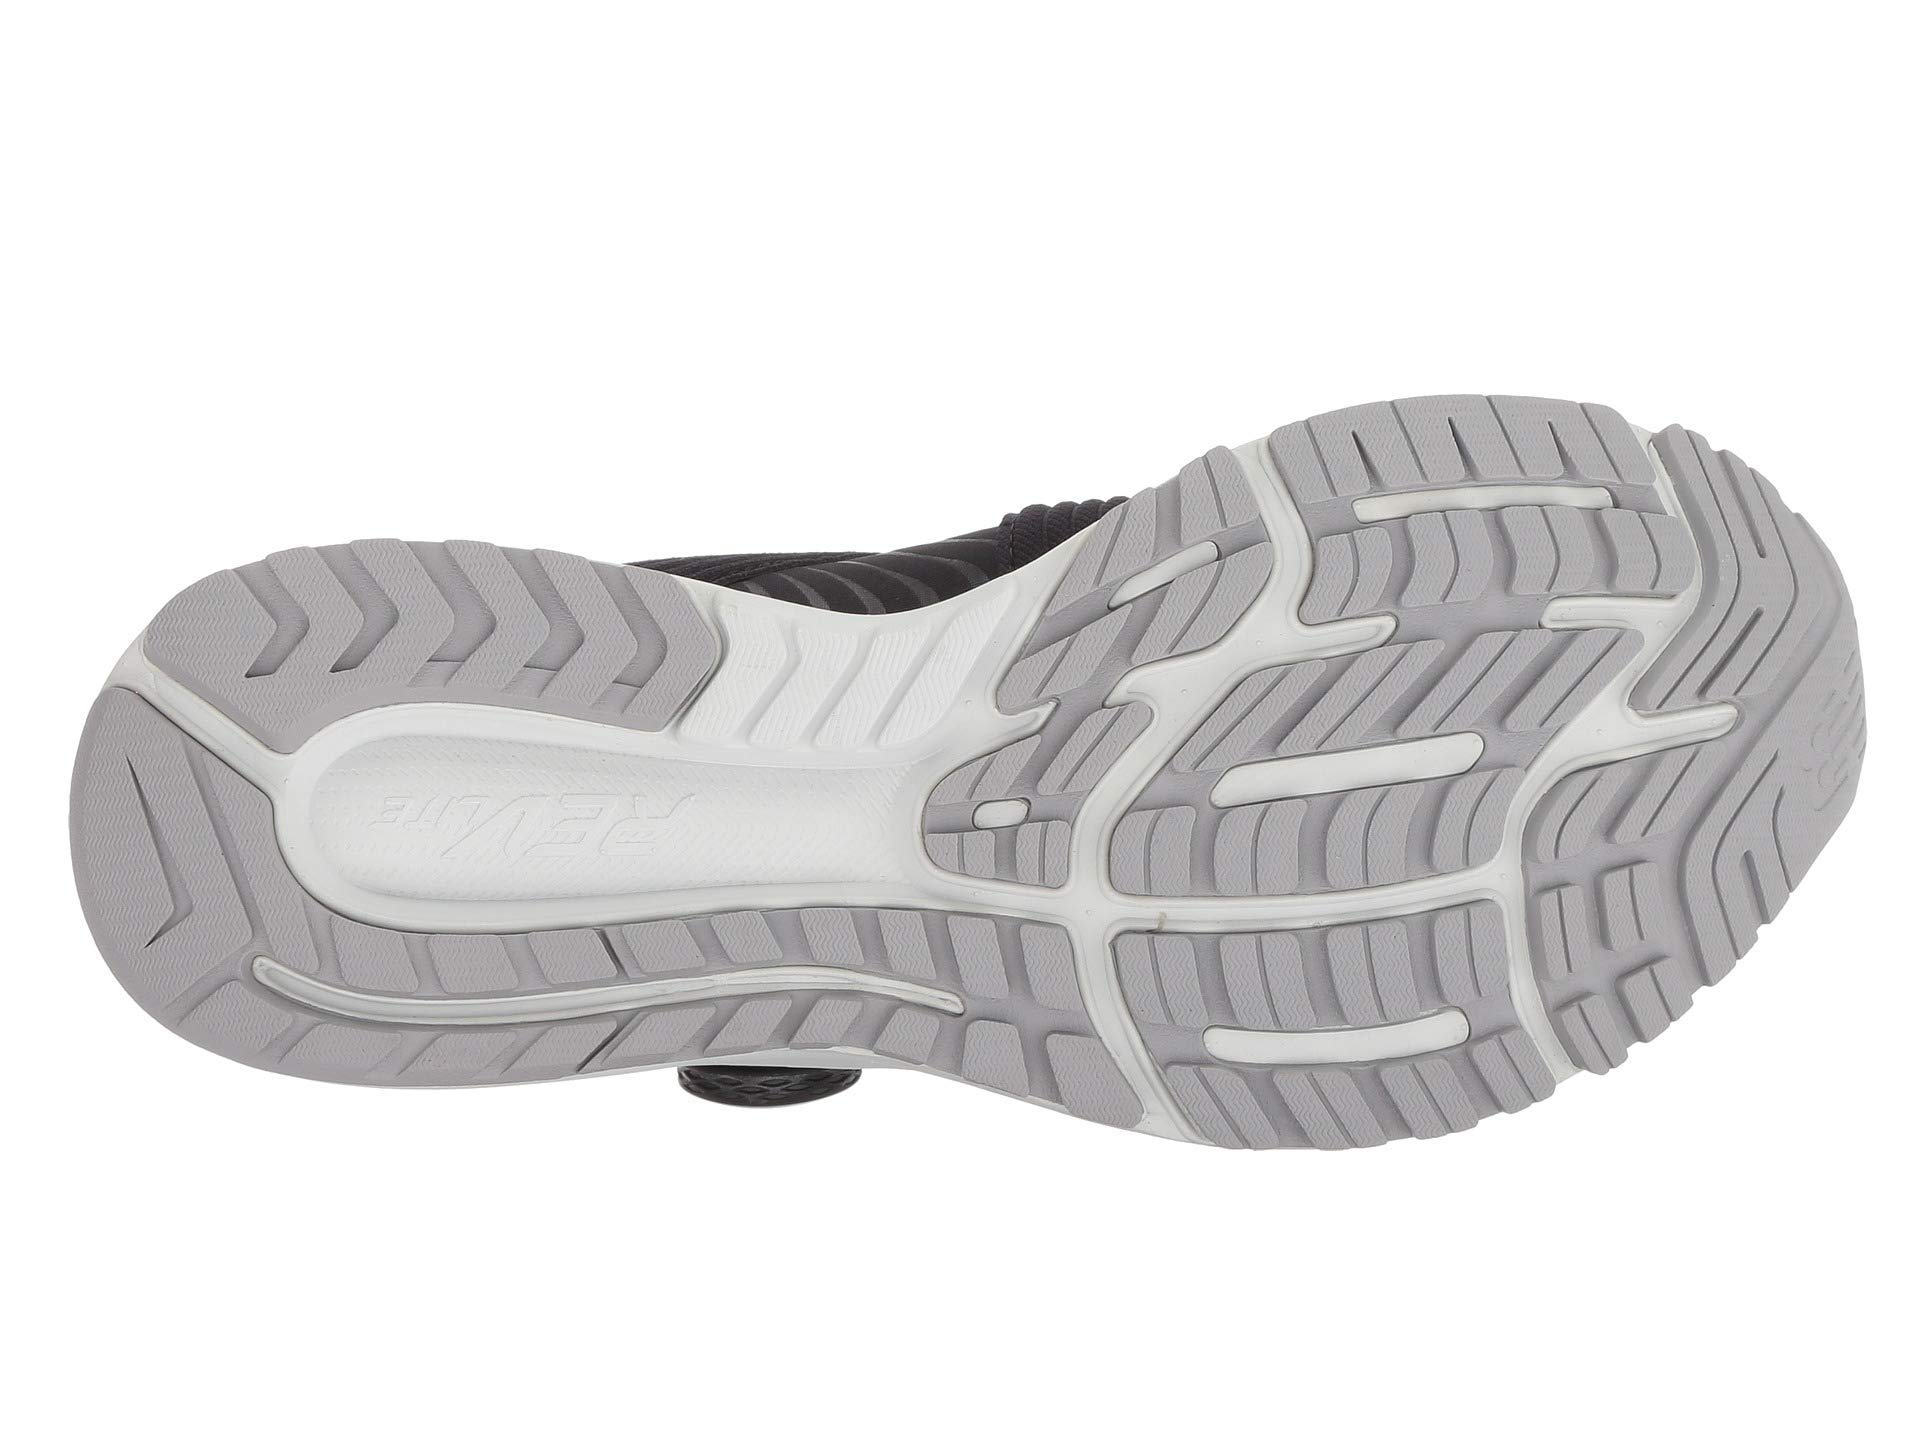chevron: (249, 531, 457, 737)
text: (416, 764, 723, 932)
